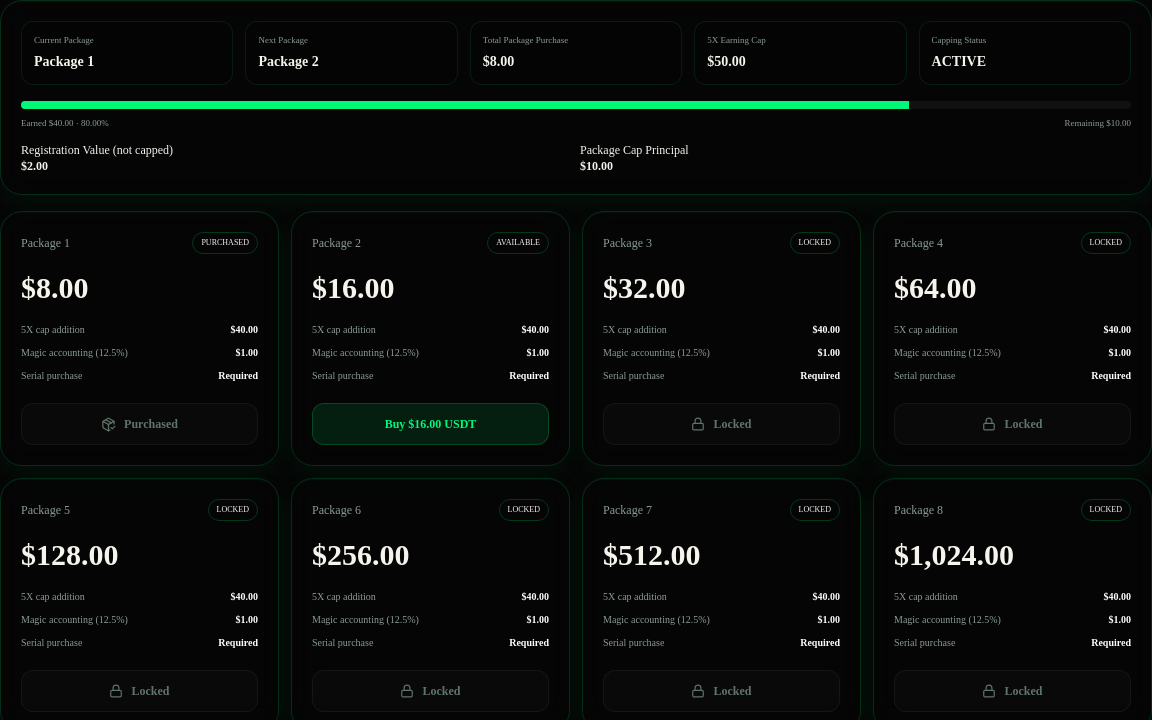
package page serial state › keeps the successful purchase flow unchanged
Click the button "Buy $16.00 USDT": (430, 424) top-left (312, 403), bottom-right (549, 445)
(page scrolled)
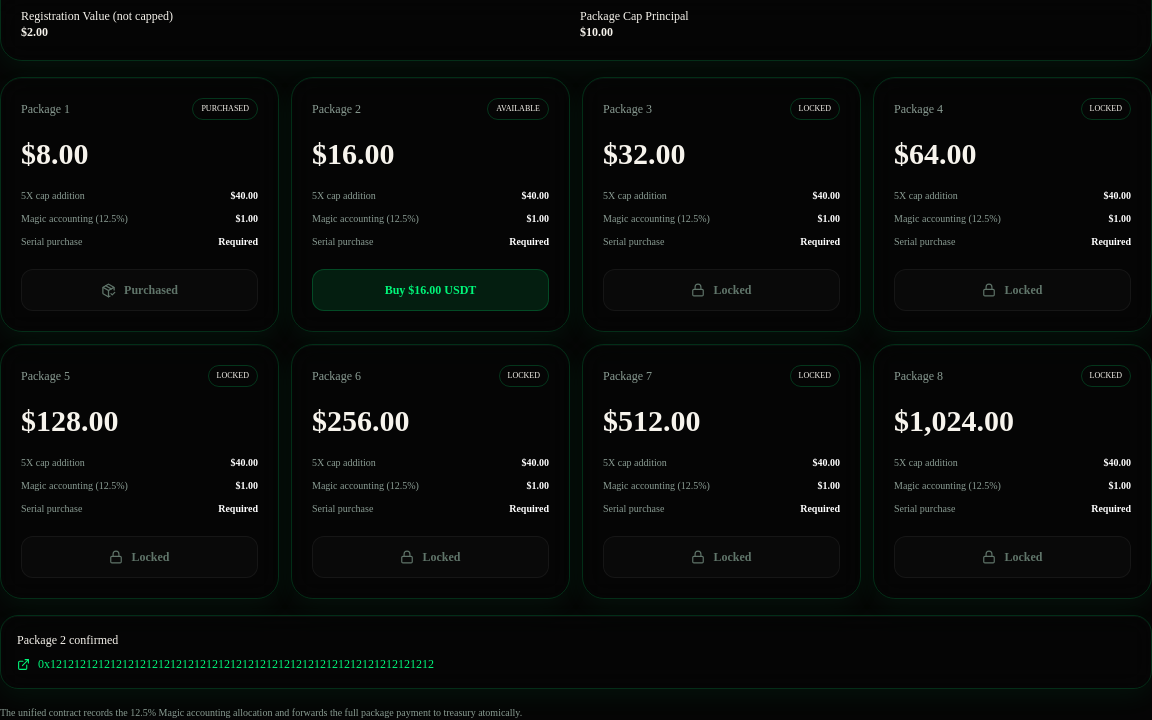
Expected: the text "Package 2 confirmed" is shown, top-left (17, 633), bottom-right (118, 647)
